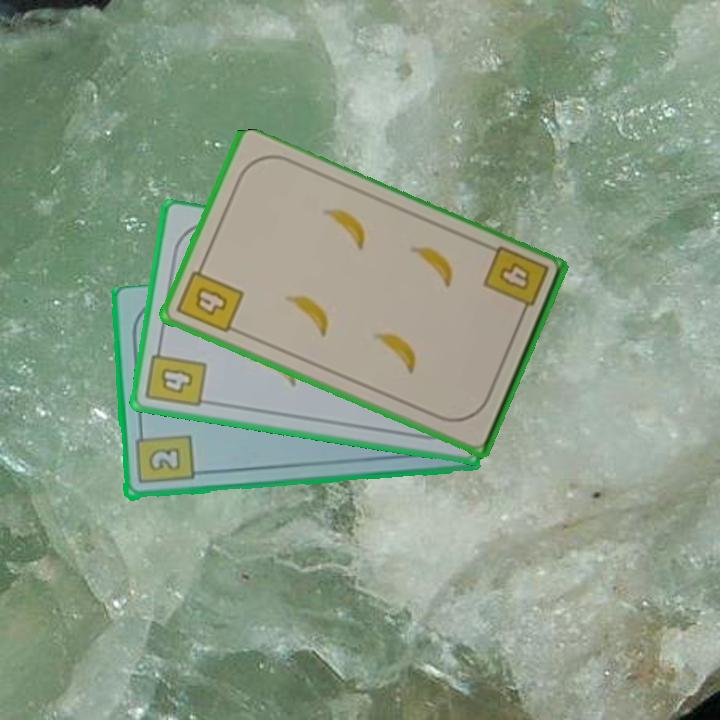2b: (131, 426, 196, 487)
4b: (479, 243, 552, 322), (173, 259, 247, 336), (142, 340, 209, 411)
